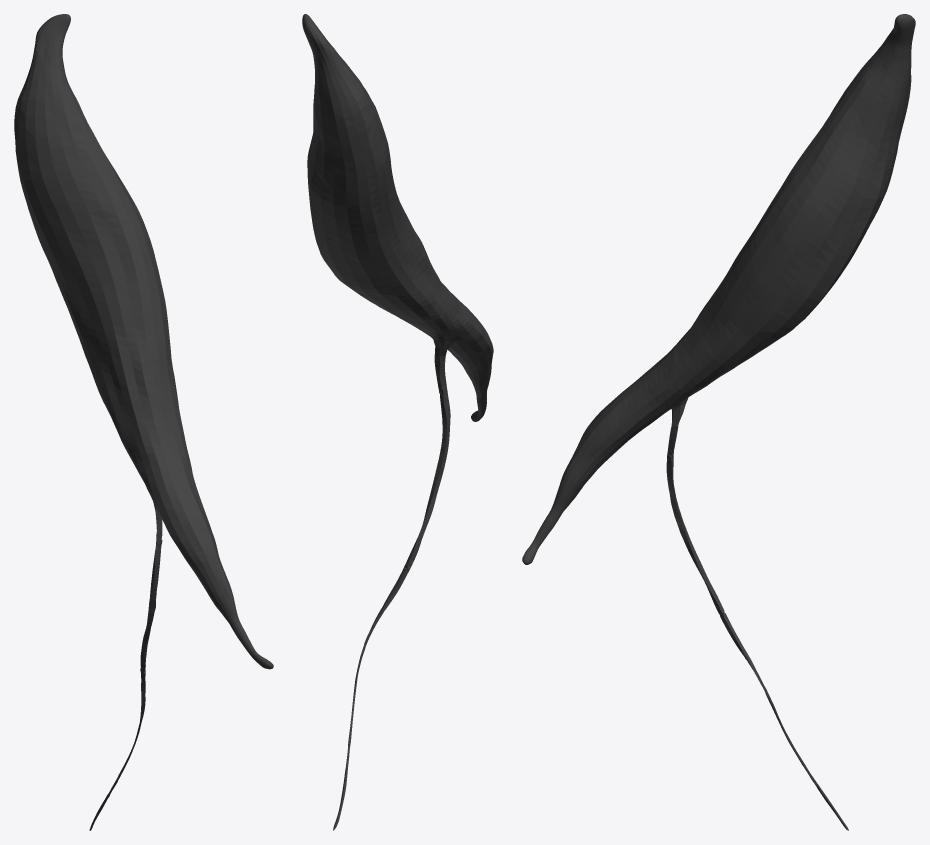
Rendered from SemiTendinosus.glb.
3 views of the same model, side by side, from view 1: azimuth 30°, elevation 25°; view 2: azimuth 150°, elevation 25°; view 3: azimuth 270°, elevation 25° (orthographic). The views are drawn at different scales.
Parts seen in each view (by area): view 1: SemiTendinosus; view 2: SemiTendinosus; view 3: SemiTendinosus.
Part boxes in pixels (bbox=[...]): SemiTendinosus: bbox=[14, 14, 273, 830]; SemiTendinosus: bbox=[302, 14, 493, 830]; SemiTendinosus: bbox=[522, 14, 915, 830].
Size of the model in its own units: 1.67 by 13.72 by 6.
Materials: 1 (1 with a texture image).
